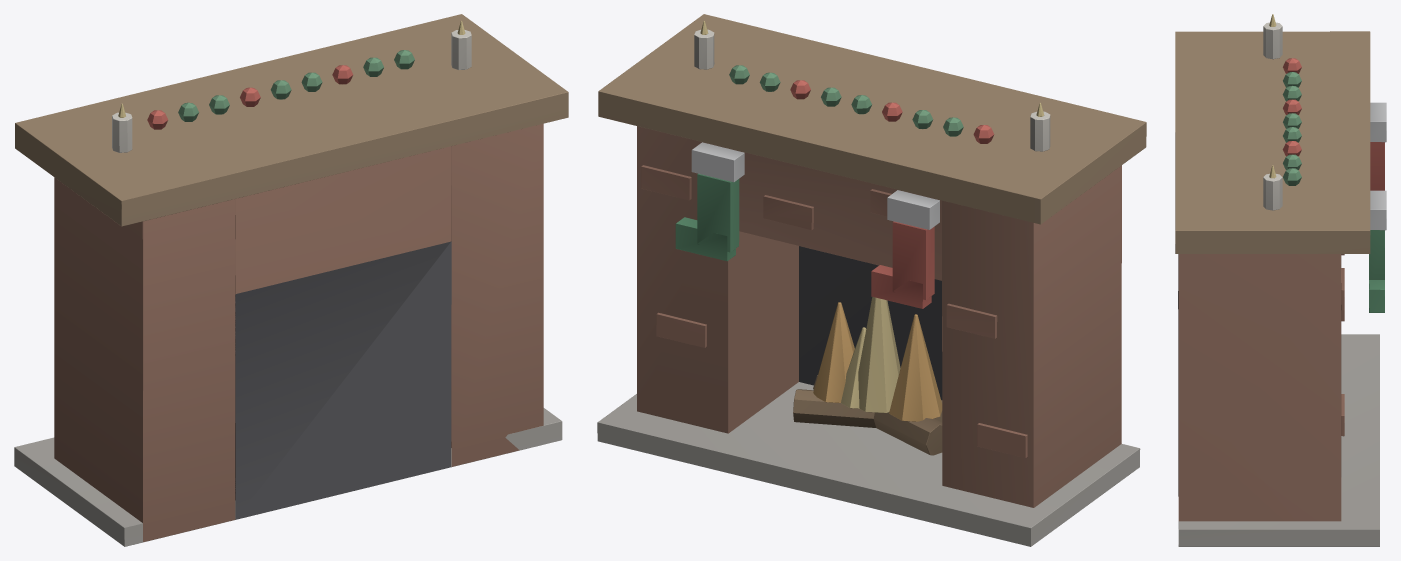
The model's file is xmas_fireplace_low.glb.
3 views of the same model, side by side, from view 1: azimuth 30°, elevation 25°; view 2: azimuth 150°, elevation 25°; view 3: azimuth 270°, elevation 25° (orthographic). The views are drawn at different scales.
Bounding box in the file's own units: 1.45 × 1.22 × 0.6494.
